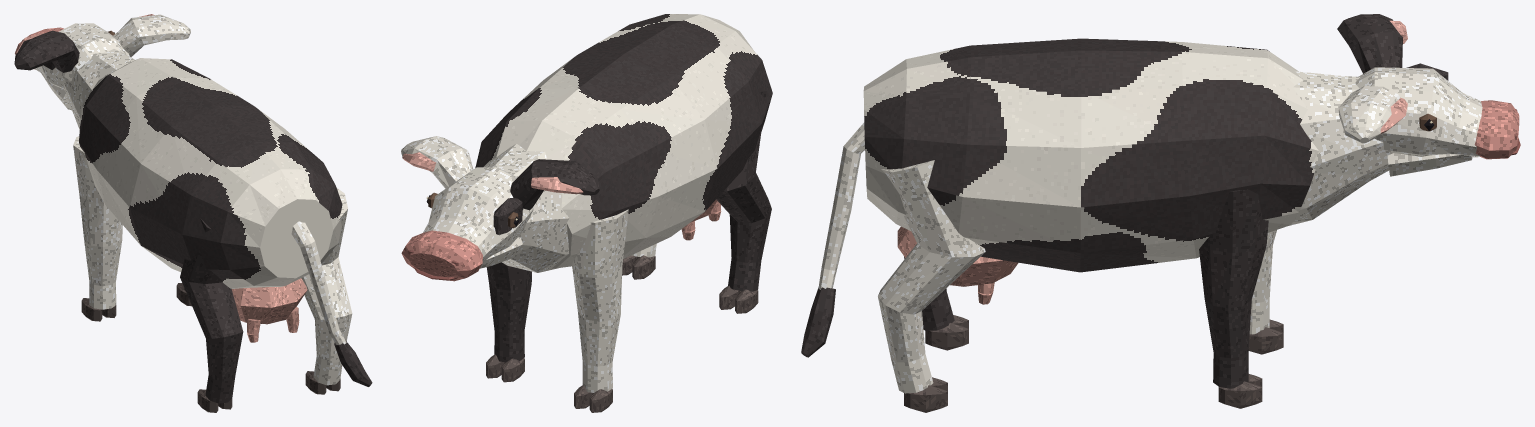
The model's file is mon_cow.glb.
3 views of the same model, side by side, from view 1: azimuth 30°, elevation 25°; view 2: azimuth 150°, elevation 25°; view 3: azimuth 270°, elevation 25° (orthographic). The views are drawn at different scales.
Visible parts, largest first — view 1: closed_body; view 2: closed_body; view 3: closed_body.
Part boxes in pixels (left/top/right/bottom): closed_body: left=14, top=14, right=372, bottom=412; closed_body: left=401, top=14, right=772, bottom=412; closed_body: left=801, top=14, right=1520, bottom=412.
Bounding box in the file's own units: 1.15 × 1.6 × 3.19.
Materials: 1 (1 with a texture image).
